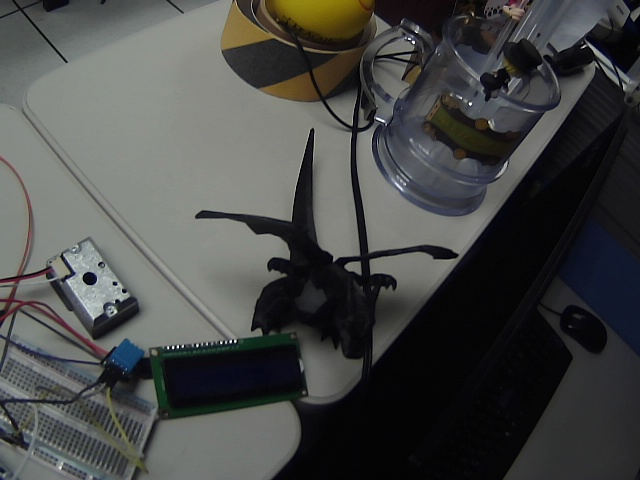charizard: (189, 116, 480, 381)
